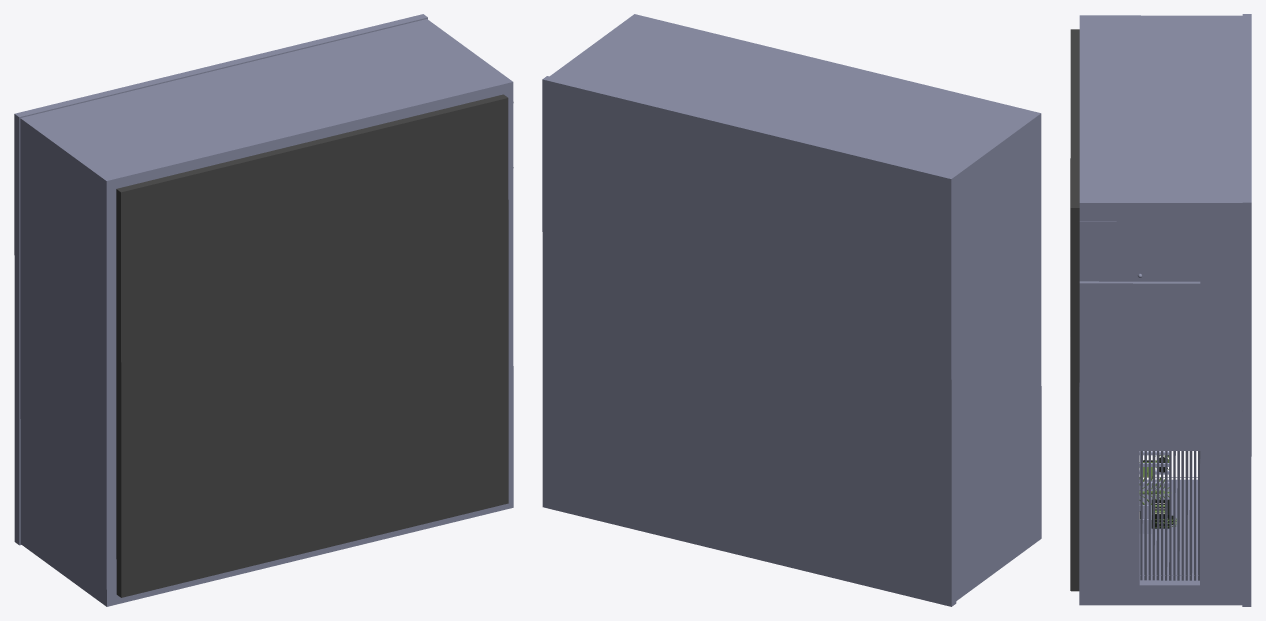
The model's file is environment.glb.
3 views of the same model, side by side, from view 1: azimuth 30°, elevation 25°; view 2: azimuth 150°, elevation 25°; view 3: azimuth 270°, elevation 25° (orthographic). The views are drawn at different scales.
Parts seen in each view (by area): view 1: Floor, walls, ceiling; view 2: ceiling, walls; view 3: walls, doors, ceiling, rolette.001, Floor, books, shelf.
Part boxes in pixels (left/top/right/bottom): Floor: left=116, top=94, right=508, bottom=597; walls: left=20, top=19, right=513, bottom=606; ceiling: left=14, top=14, right=427, bottom=545; ceiling: left=542, top=76, right=956, bottom=606; walls: left=550, top=14, right=1041, bottom=600; walls: left=1079, top=15, right=1242, bottom=605; doors: left=1079, top=221, right=1201, bottom=284; ceiling: left=1242, top=14, right=1251, bottom=606; rolette.001: left=1139, top=451, right=1200, bottom=580; Floor: left=1070, top=29, right=1079, bottom=591; books: left=1139, top=499, right=1176, bottom=533; shelf: left=1139, top=451, right=1169, bottom=485.
Size of the model in its own units: 7.39 by 7.39 by 3.01.
